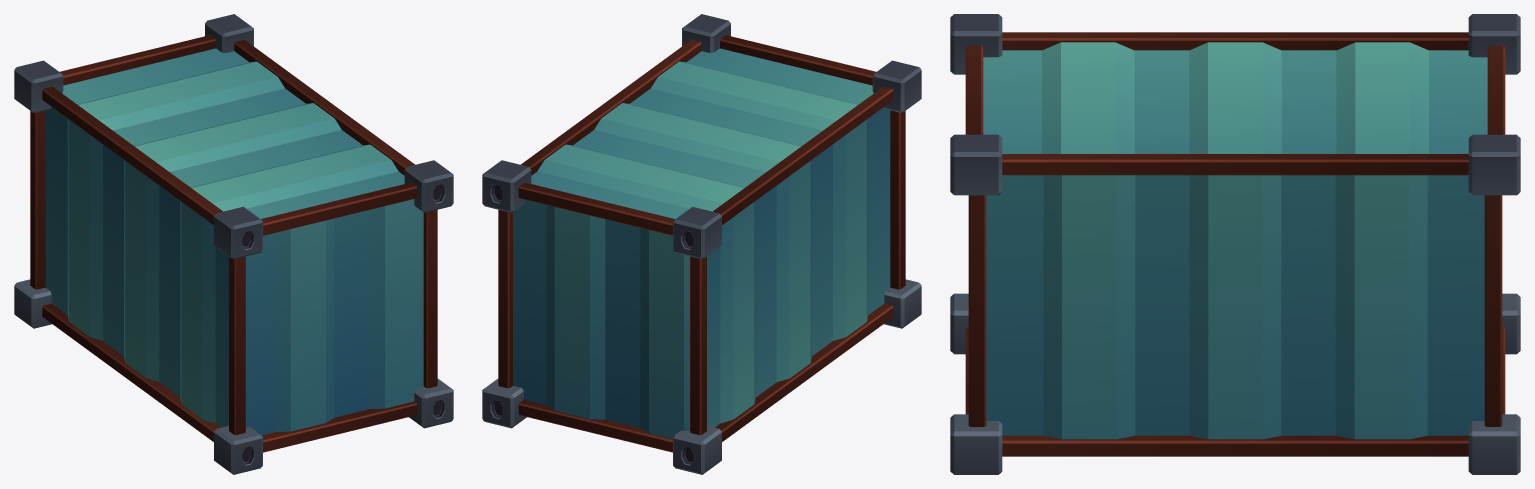
Rendered from sp_build_wall_part1c.fbx.
3 renders of one model, left to right at view 1: azimuth 30°, elevation 25°; view 2: azimuth 150°, elevation 25°; view 3: azimuth 270°, elevation 25°, orthographic. The views are drawn at different scales.
Visible parts, largest first — view 1: wall_part1c; view 2: wall_part1c; view 3: wall_part1c.
Boxes of the visible parts, box(x1,y1,x2,y2) form: wall_part1c: box(14, 14, 453, 474); wall_part1c: box(482, 14, 921, 474); wall_part1c: box(950, 14, 1520, 474).
Size of the model in its own units: 292 by 312 by 499.
